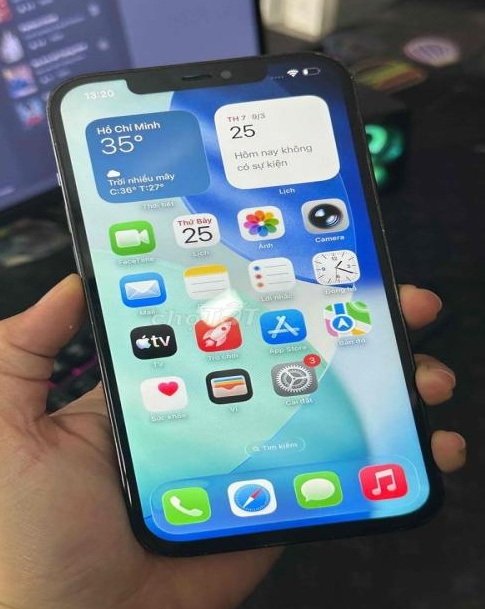scratch: (295, 48, 379, 127), (43, 91, 86, 168)
